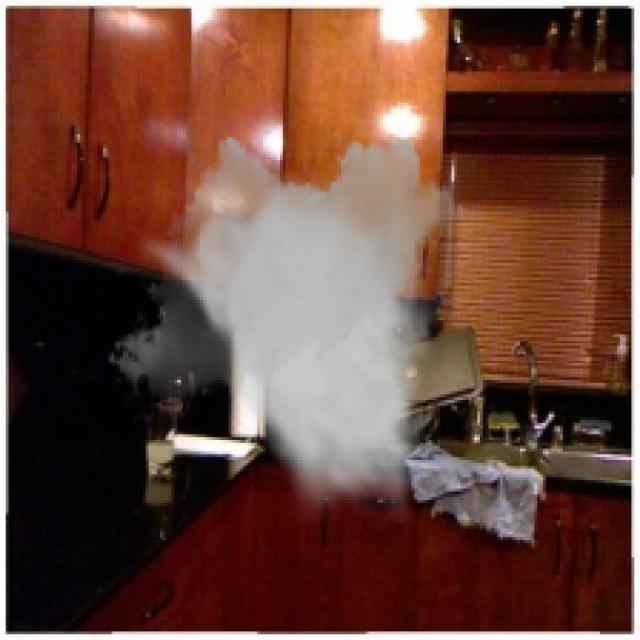smoke: (106, 126, 466, 523)
